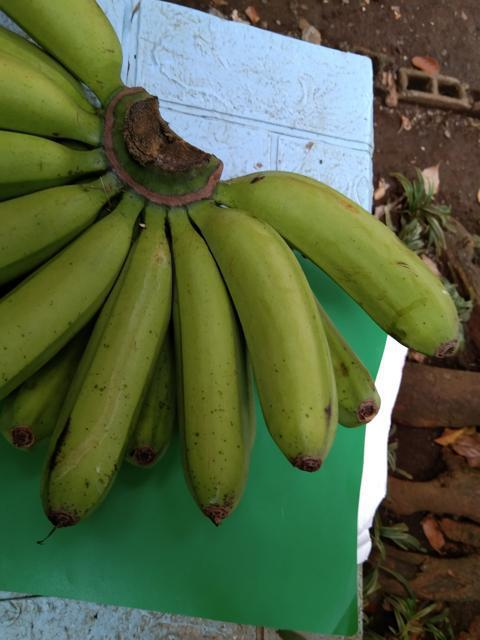freshunripe: (244, 154, 472, 365), (189, 197, 341, 486), (0, 182, 158, 394), (162, 214, 263, 526), (0, 0, 146, 92), (0, 167, 121, 274), (0, 54, 102, 145), (0, 115, 92, 191)
unripe: (28, 222, 170, 541)
